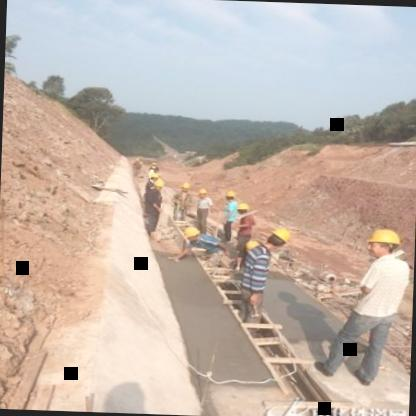helmet: (368, 226, 404, 258), (261, 224, 295, 248), (182, 224, 209, 246), (232, 201, 256, 217), (222, 188, 244, 205), (153, 176, 168, 193), (176, 180, 194, 194), (196, 186, 210, 199)
